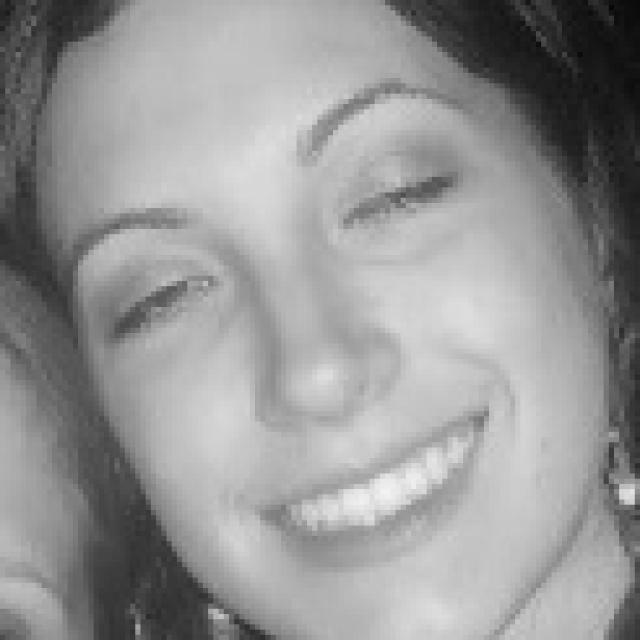real: (63, 10, 504, 596), (98, 144, 480, 356)
